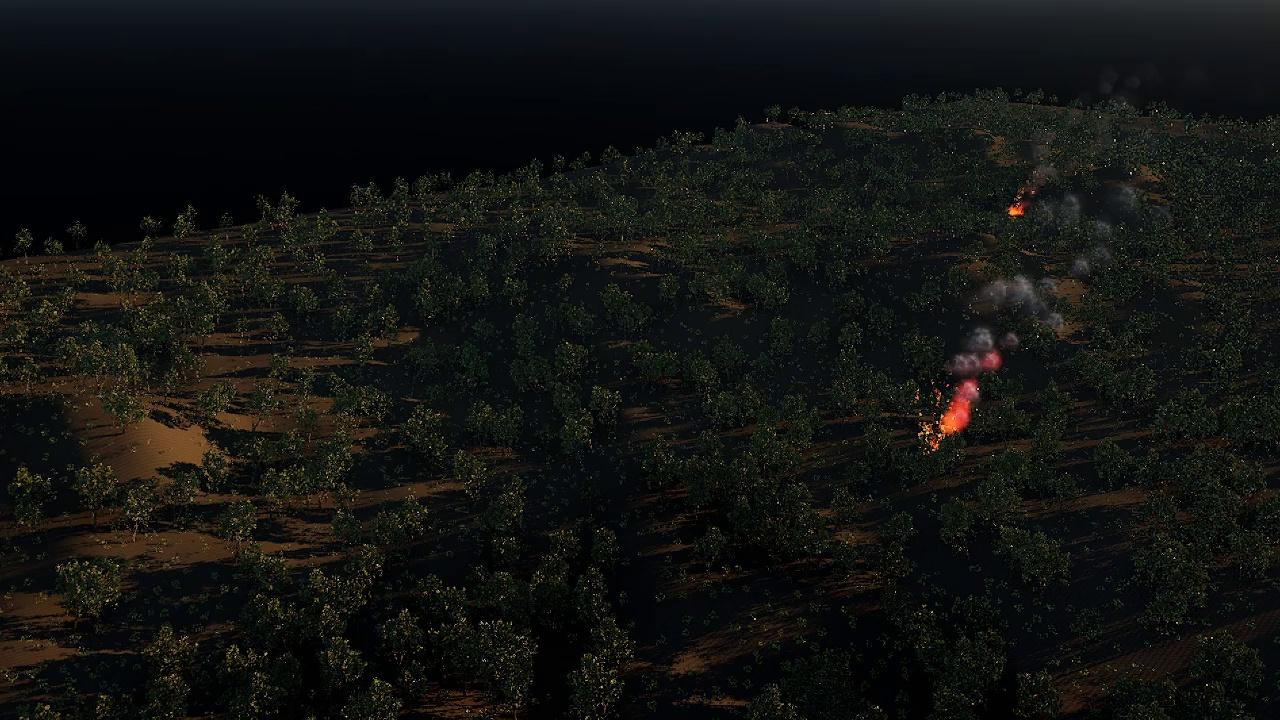fire: (920, 389, 974, 450), (1006, 203, 1024, 218)
smoke: (931, 275, 1065, 427), (1063, 183, 1142, 276), (1017, 166, 1061, 202)
